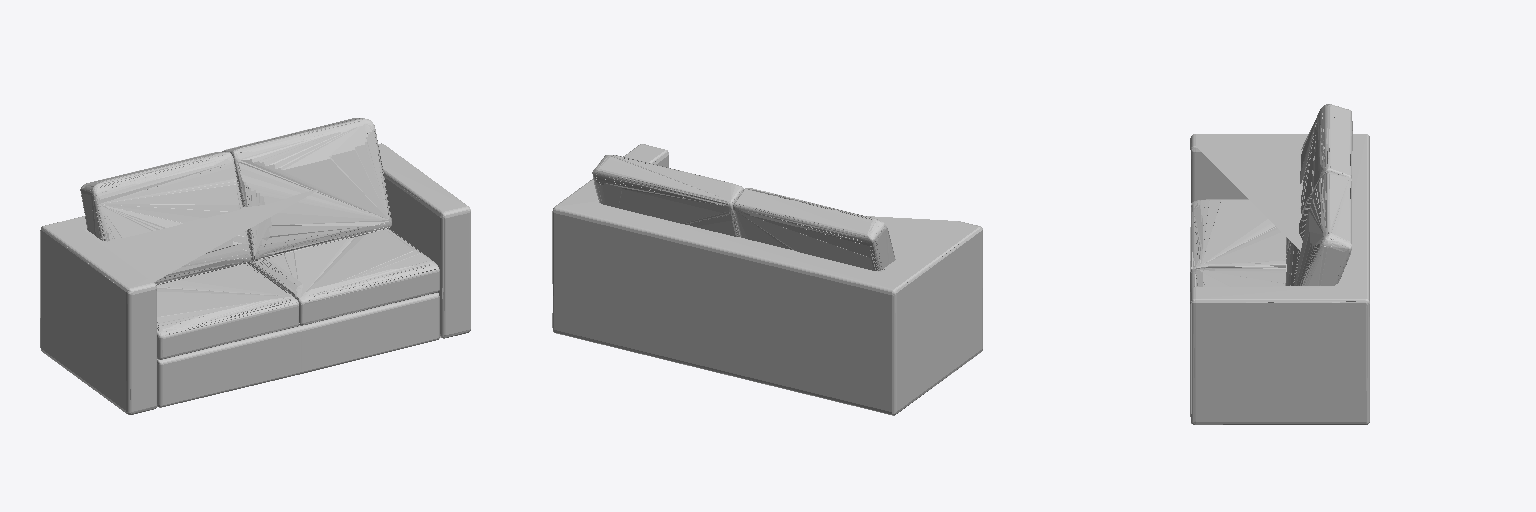
The model's file is Sofa.obj.
3 views of the same model, side by side, from view 1: azimuth 30°, elevation 25°; view 2: azimuth 150°, elevation 25°; view 3: azimuth 270°, elevation 25° (orthographic).
Parts seen in each view (by area): view 1: Cube; view 2: Cube; view 3: Cube.
Boxes of the visible parts, <box> form: Cube: <box>40,118,470,414</box>; Cube: <box>552,144,982,415</box>; Cube: <box>1190,104,1369,424</box>.
Bounding box in the file's own units: 2.19 × 1.06 × 0.9939.